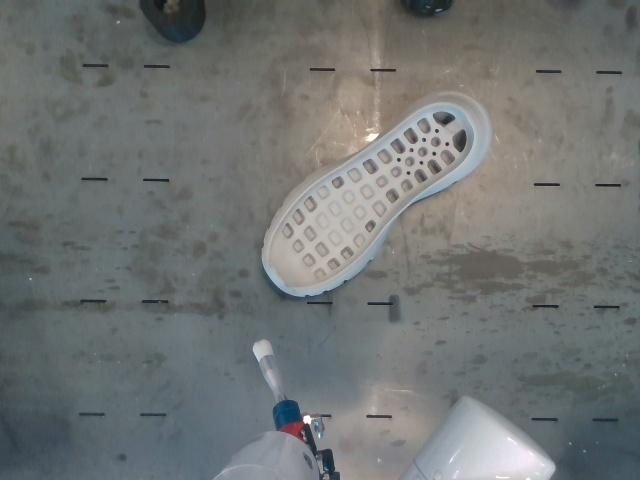shoes: (268, 104, 474, 287)
